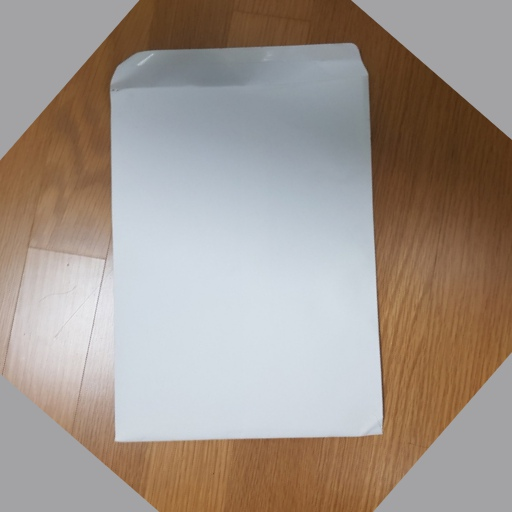Paper_2: (99, 45, 391, 447)
